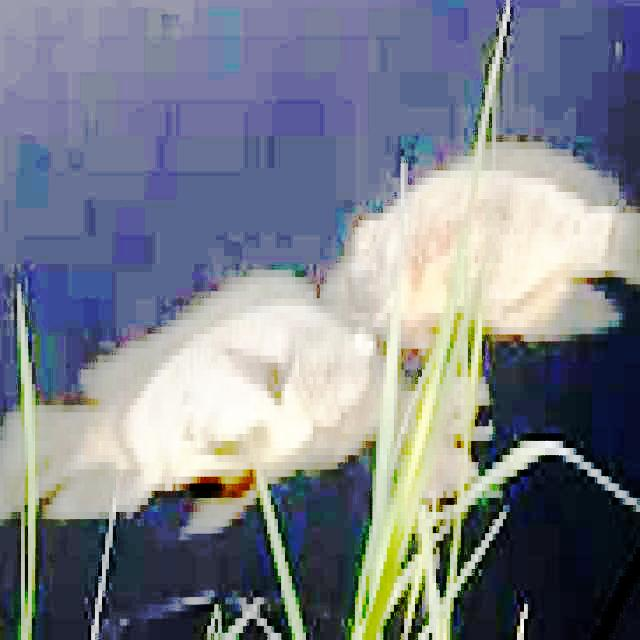Columnaris Disease: (38, 273, 379, 532), (472, 143, 639, 334), (328, 162, 470, 347)
